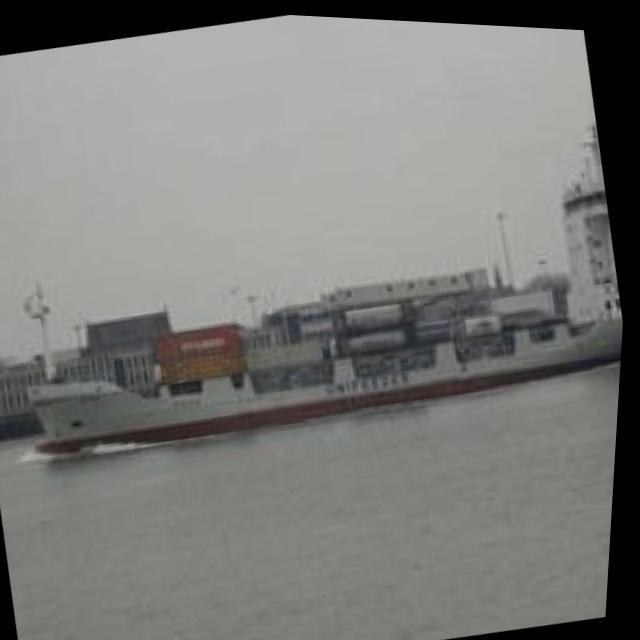ship2: (21, 110, 627, 455)
